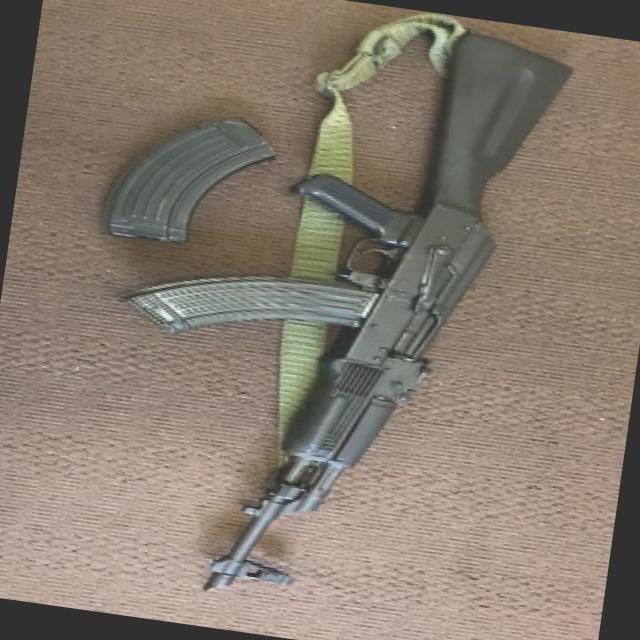long weapon: (46, 0, 591, 639)
